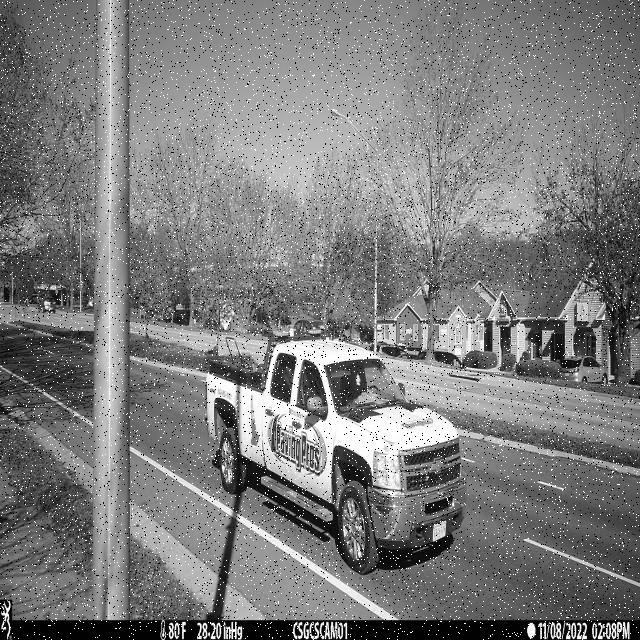Pickup: (206, 328, 468, 577)
